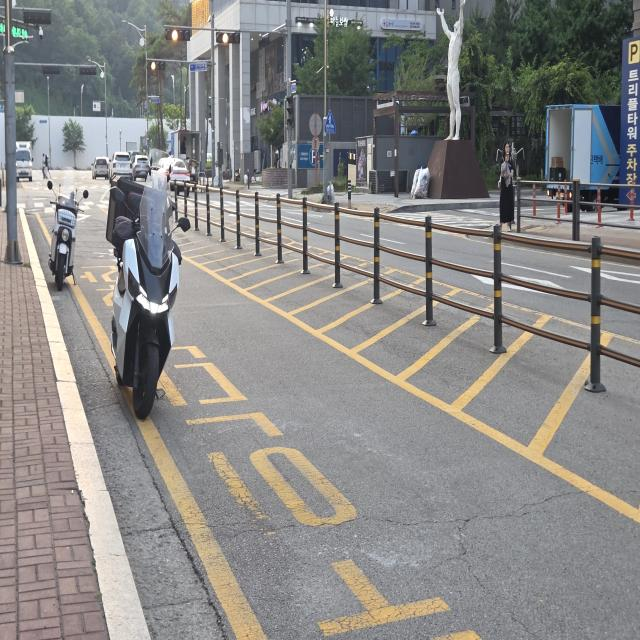motorcycle: (77, 106, 196, 468), (36, 126, 94, 304)
